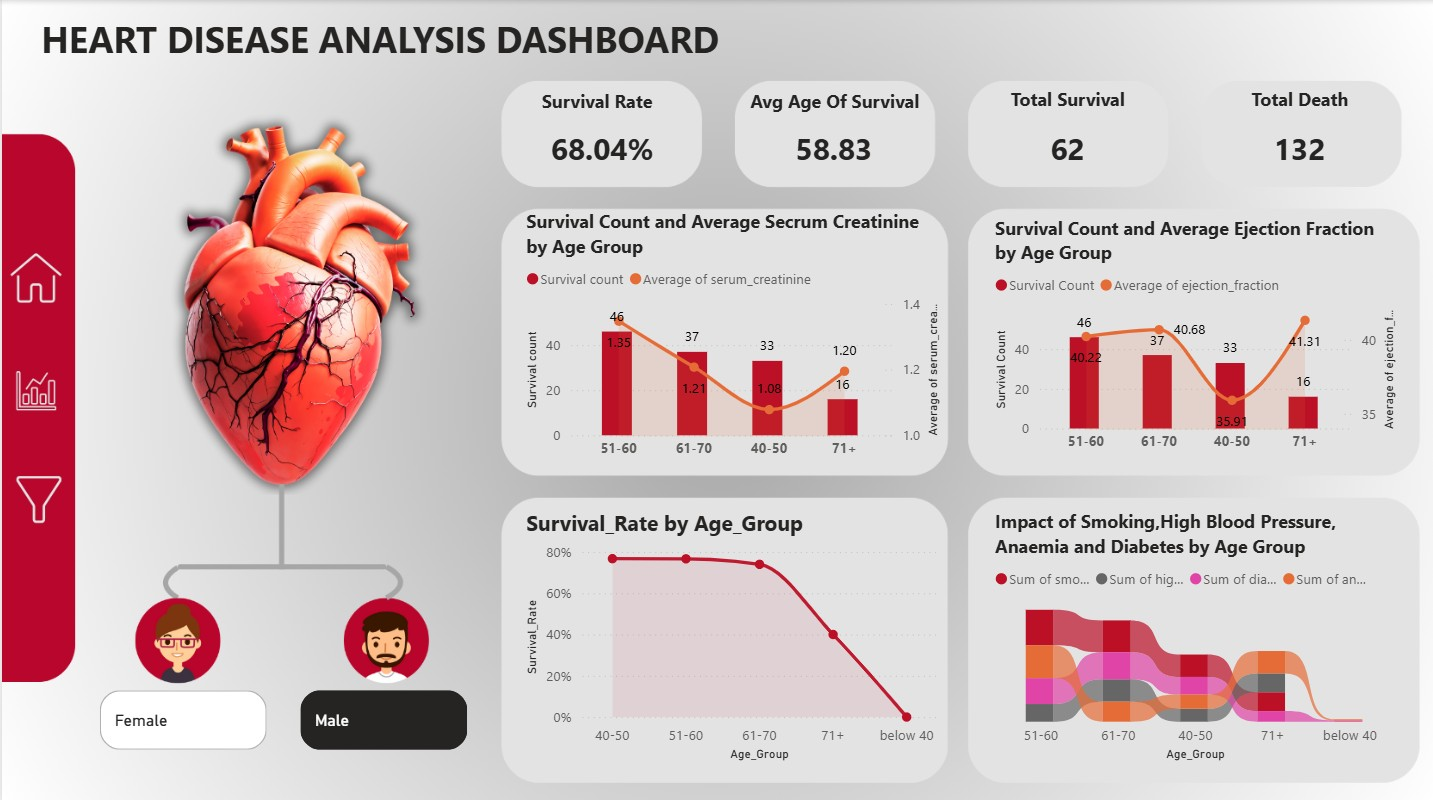

This screenshot's page, from the dashboard's own definition file:
{"tool":"powerbi","page":{"name":"Page 1","canvas":[1280,720],"ordinal":0},"visuals":[{"type":"textbox","box":[20.9,0,626.7,55.8],"z":0},{"type":"card","fields":{"Values":["heart_Disease_clinical_records_.Survival_Rate"]},"box":[445.4,105.8,181.4,54.7],"z":1},{"type":"card","fields":{"Values":["heart_Disease_clinical_records_.Average_Age_Servial"]},"box":[653.5,105.8,180.2,54.7],"z":2},{"type":"card","fields":{"Values":["heart_Disease_clinical_records_.Total_Serviour"]},"box":[1067.4,105.8,183.7,54.7],"z":3},{"type":"card","fields":{"Values":["heart_Disease_clinical_records_.Total_Death"]},"box":[864,105.8,175.6,54.7],"z":4},{"type":"textbox","box":[445.4,73.3,172.1,32.6],"z":5},{"type":"lineClusteredColumnComboChart","title":"Survival Count and Average Secrum Creatinine by Age Group","fields":{"Category":["heart_Disease_clinical_records_.Age_Group"],"Y":["CountNonNull(heart_Disease_clinical_records_.DEATH_EVENT)"],"Y2":["Avg(heart_Disease_clinical_records_.serum_creatinine)"]},"box":[464,186,380.2,232.6],"z":6},{"type":"lineClusteredColumnComboChart","title":"Survival Count and Average Ejection Fraction by Age Group","fields":{"Category":["heart_Disease_clinical_records_.Age_Group"],"Y":["CountNonNull(heart_Disease_clinical_records_.DEATH_EVENT)"],"Y2":["Avg(heart_Disease_clinical_records_.ejection_fraction)"]},"box":[882.6,191.9,368.6,220.9],"z":7},{"type":"lineChart","fields":{"Category":["heart_Disease_clinical_records_.Age_Group"],"Y":["heart_Disease_clinical_records_.Survival_Rate"]},"box":[464,454.7,380.2,230.2],"z":8},{"type":"ribbonChart","title":"Impact of Smoking,High Blood Pressure, Anaemia and Diabetes by Age Group","fields":{"Category":["heart_Disease_clinical_records_.Age_Group"],"Y":["Sum(heart_Disease_clinical_records_.smoking)","Sum(heart_Disease_clinical_records_.high_blood_pressure)","Sum(heart_Disease_clinical_records_.diabetes)","Sum(heart_Disease_clinical_records_.anaemia)"]},"box":[882.6,454.7,368.6,230.2],"z":9},{"type":"advancedSlicerVisual","fields":{"Values":["heart_Disease_clinical_records_.Gender"]},"box":[84.9,610.5,339.5,64],"z":10},{"type":"textbox","box":[654.7,73.3,179.1,40.7],"z":11},{"type":"textbox","box":[864,72.1,175.6,33.7],"z":12},{"type":"textbox","box":[1067.4,72.1,183.7,33.7],"z":13}]}

Visuals, with their boxes in screenshot pixels (x1, y1, x2, y2), scaled from the page's 1280x720 canvas onto the 1433x800 screenshot:
textbox: select_region(23, 0, 725, 62)
card - heart_Disease_clinical_records_.Survival_Rate: select_region(499, 118, 702, 178)
card - heart_Disease_clinical_records_.Average_Age_Servial: select_region(732, 118, 933, 178)
card - heart_Disease_clinical_records_.Total_Serviour: select_region(1195, 118, 1401, 178)
card - heart_Disease_clinical_records_.Total_Death: select_region(967, 118, 1164, 178)
textbox: select_region(499, 81, 691, 118)
"Survival Count and Average Secrum Creatinine by Age Group" lineClusteredColumnComboChart: select_region(519, 207, 945, 465)
"Survival Count and Average Ejection Fraction by Age Group" lineClusteredColumnComboChart: select_region(988, 213, 1401, 459)
lineChart - heart_Disease_clinical_records_.Age_Group x heart_Disease_clinical_records_.Survival_Rate: select_region(519, 505, 945, 761)
"Impact of Smoking,High Blood Pressure, Anaemia and Diabetes by Age Group" ribbonChart: select_region(988, 505, 1401, 761)
advancedSlicerVisual - heart_Disease_clinical_records_.Gender: select_region(95, 678, 475, 749)
textbox: select_region(733, 81, 933, 127)
textbox: select_region(967, 80, 1164, 118)
textbox: select_region(1195, 80, 1401, 118)
